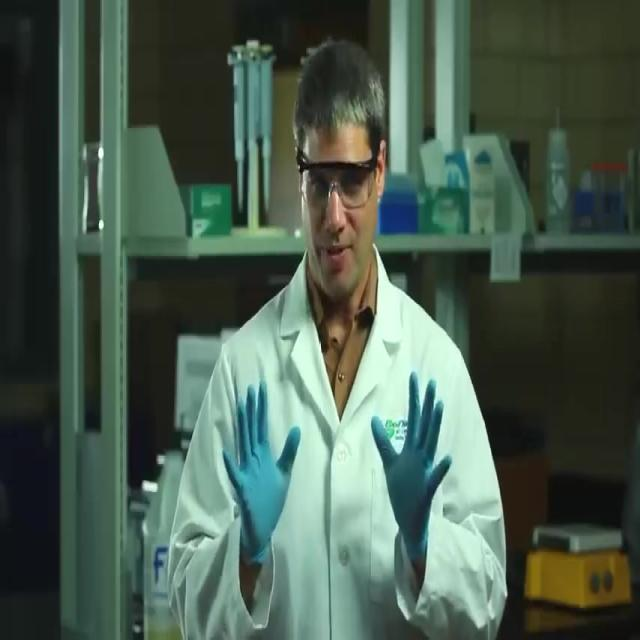googles: (300, 155, 374, 210)
labcoat: (168, 240, 508, 640)
